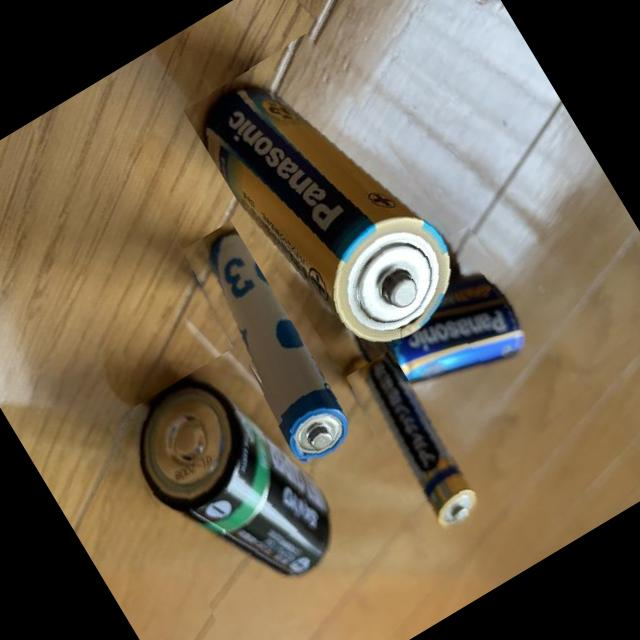Hazard: (180, 18, 492, 378), (100, 344, 362, 636), (162, 220, 372, 497), (322, 219, 546, 429), (318, 332, 488, 551)
